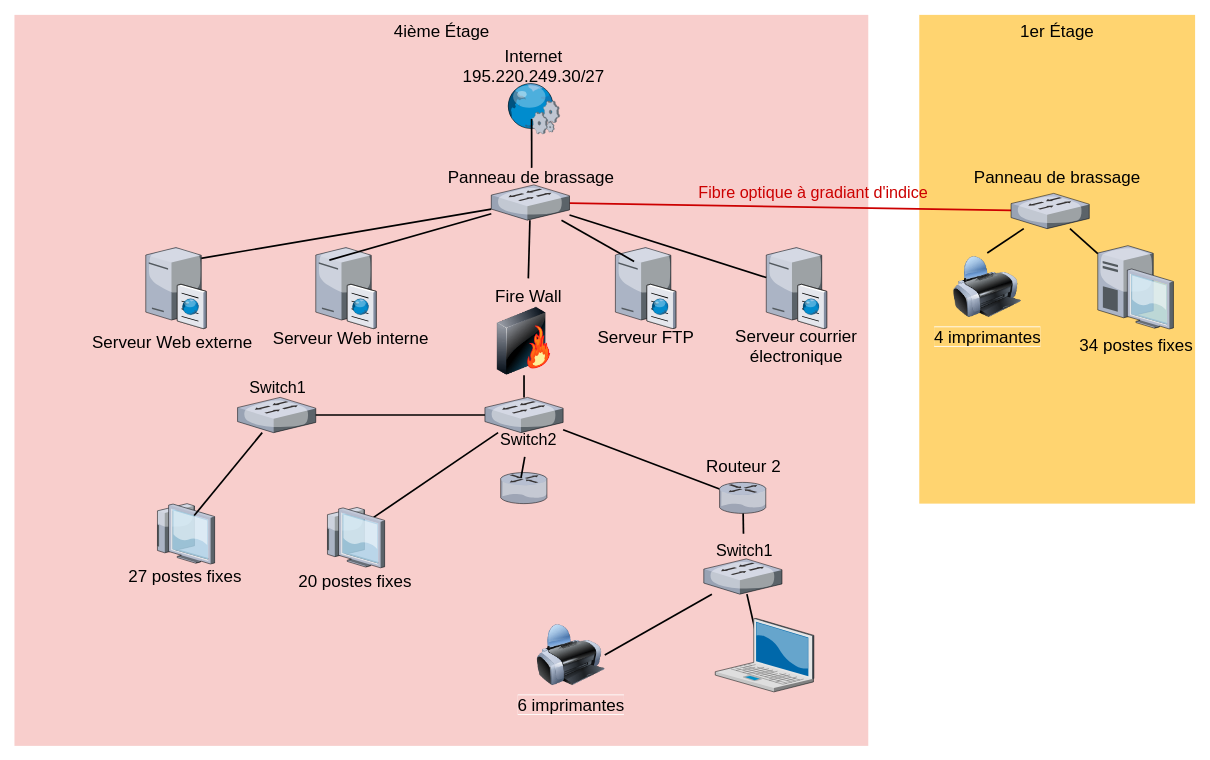
This 1210x760 diagram has some shape labels left out. Here are the shapes that lost their labels. From the top down, the centre of each, then its label:
point (523, 487): Routeur 1
point (764, 654): 16 postes portables
